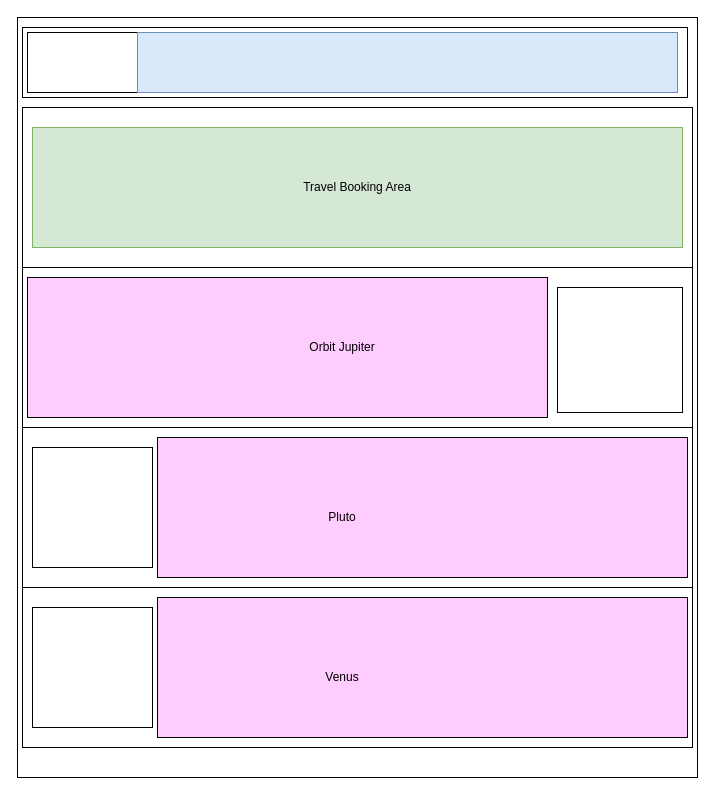
This 715x795 diagram has some shape labels left out. Here are the shapes that lost their labels. From the top down, the centre of each, then its label:
the point at 82,62: LOGO
the point at 407,62: Navigation Bar
